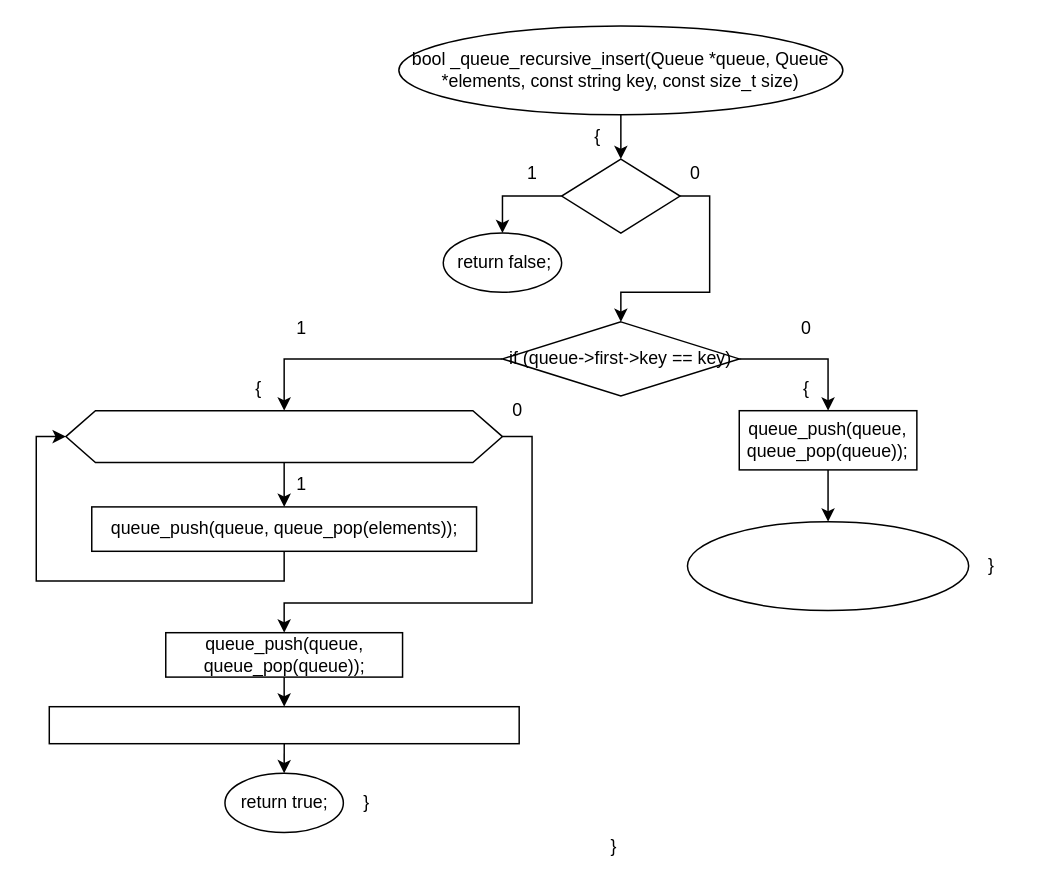
This 1039x895 diagram has some shape labels left out. Each missing label, with the centre of its shape:
"_queue_recursive_insert(queue, element, key, size - 1);" belongs at point 283,724.
"for (int i = 1, size = elements->size; i <= size; i++)" belongs at point 283,435.
"if (size == 0)" belongs at point 620,195.
"return _queue_recursive_insert(queue, element, key, size - 1);" belongs at point 827,565.
